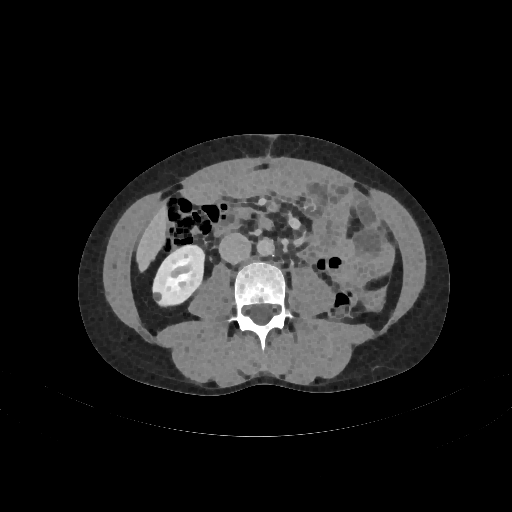Lesion: (148, 289, 164, 304)
